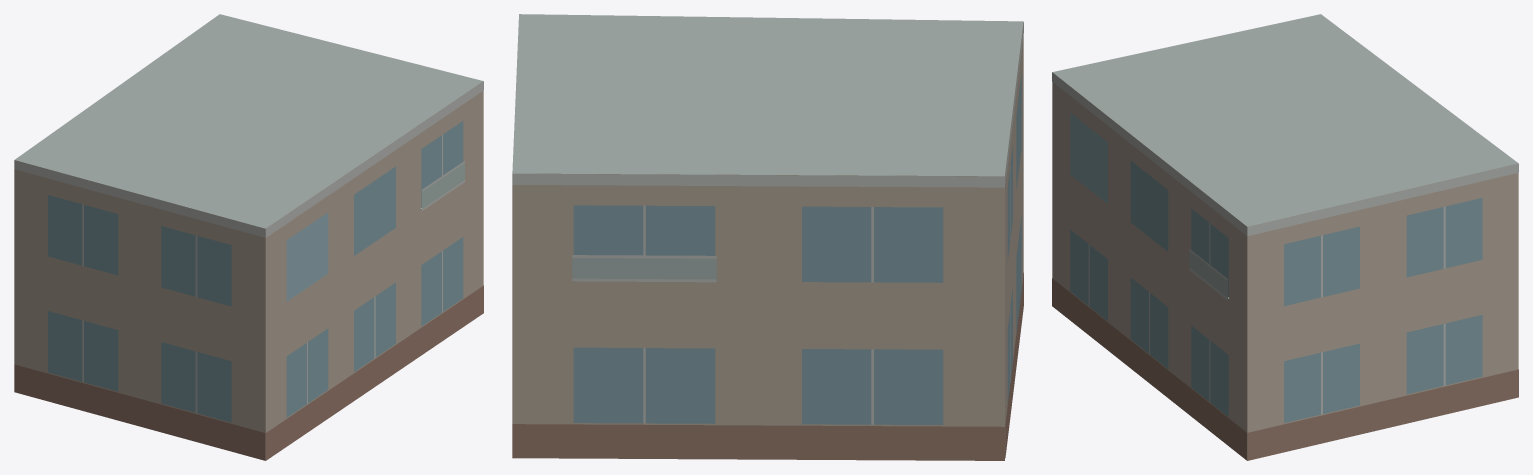
The model's file is survey-upis-33009292.glb.
The picture shows the model from 3 angles, left to right: view 1: azimuth 30°, elevation 25°; view 2: azimuth 150°, elevation 25°; view 3: azimuth 270°, elevation 25°; orthographic projection. The views are drawn at different scales.
Parts seen in each view (by area): view 1: survey-upis-33009292.tmp; view 2: survey-upis-33009292.tmp; view 3: survey-upis-33009292.tmp.
Part boxes in pixels (x1=…): survey-upis-33009292.tmp: x1=14, y1=14, x2=483, y2=460; survey-upis-33009292.tmp: x1=512, y1=14, x2=1023, y2=460; survey-upis-33009292.tmp: x1=1052, y1=14, x2=1518, y2=460.
Size of the model in its own units: 11.91 by 6.1 by 11.04.
